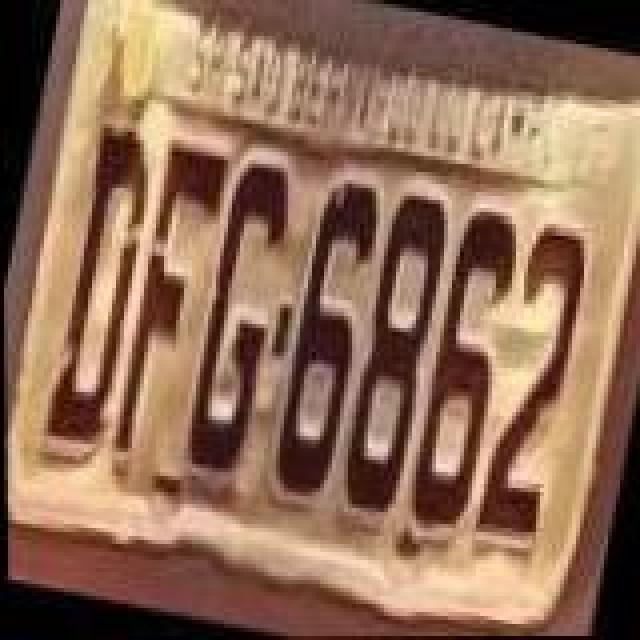2: (464, 210, 600, 550)
6: (390, 194, 530, 538), (256, 166, 392, 502)
8: (328, 182, 464, 526)
D: (32, 116, 168, 460)
F: (100, 130, 236, 470)
G: (168, 148, 304, 480)
